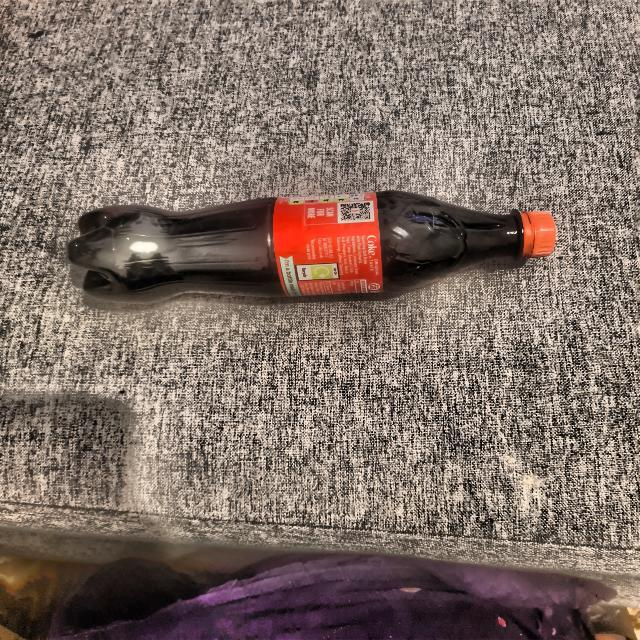coke-bottle: (70, 198, 561, 297)
